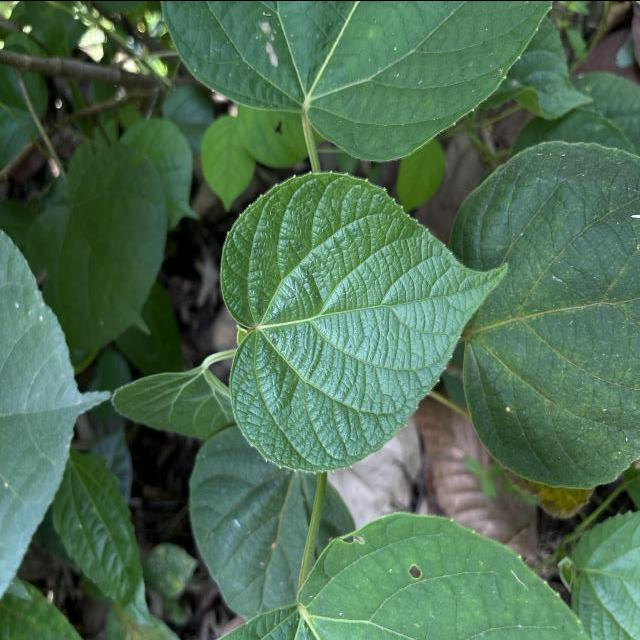Clerodendrum infortunatum: (217, 164, 513, 467)
